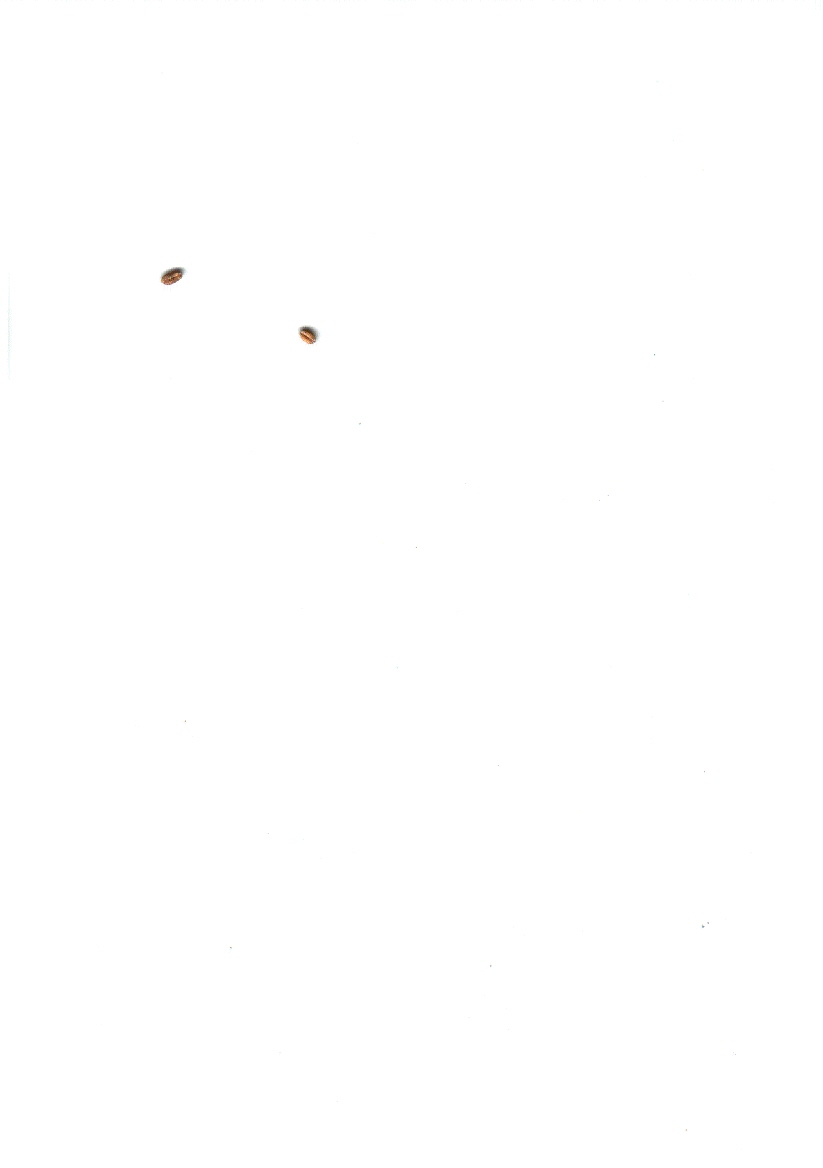grains: (150, 256, 196, 298), (290, 315, 328, 359)
